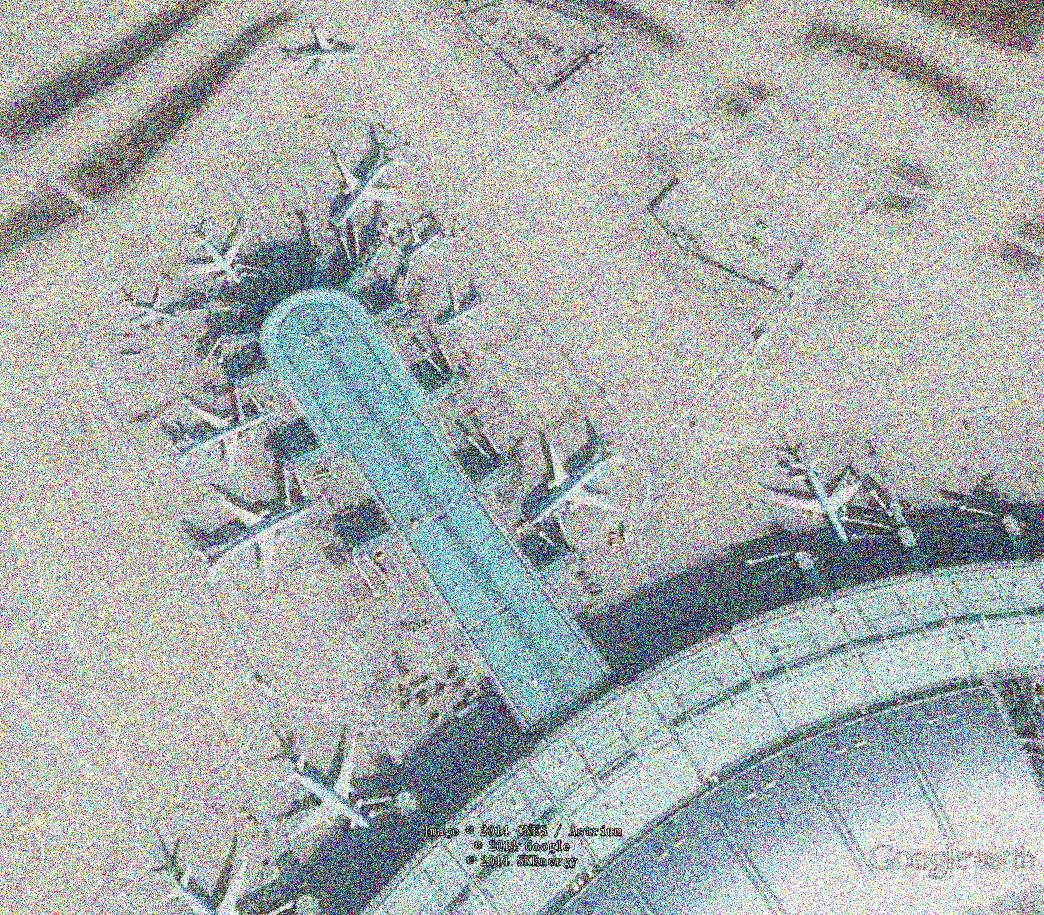aircraft: (187, 492, 319, 598), (274, 734, 377, 842), (528, 436, 639, 536), (766, 452, 872, 553), (322, 140, 426, 238), (165, 397, 281, 483), (154, 852, 255, 913), (280, 24, 363, 92), (175, 223, 255, 290), (433, 283, 501, 335), (395, 215, 454, 268), (119, 284, 182, 332)
